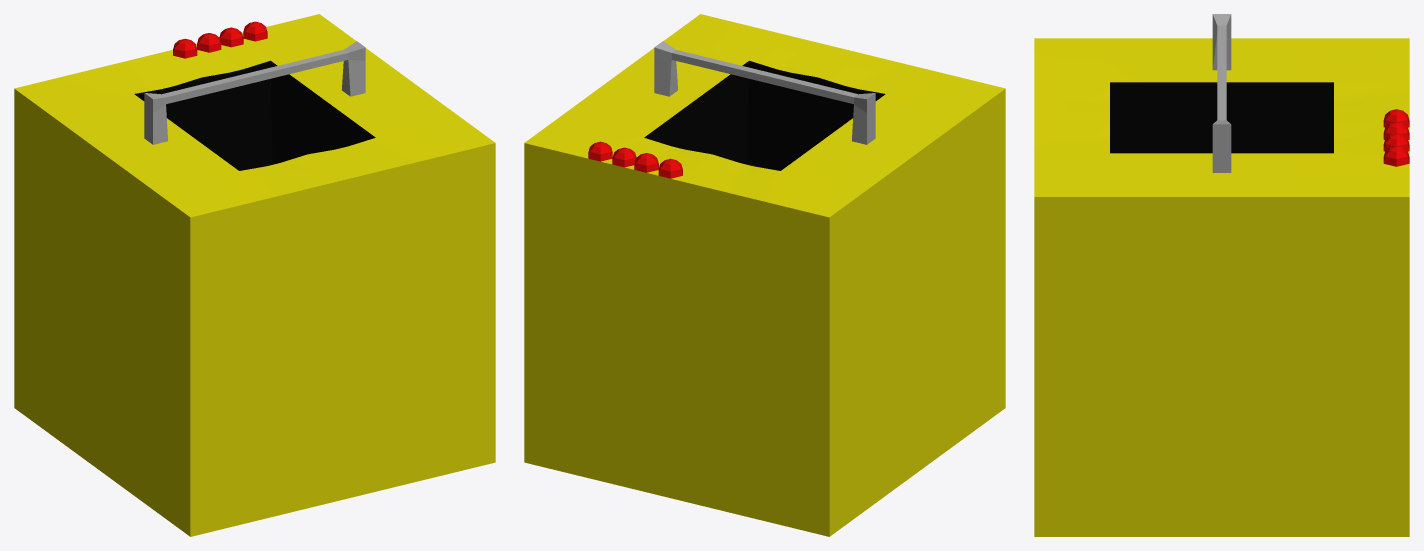
Rendered from Grill 1.fbx.
The picture shows the model from 3 angles, left to right: view 1: azimuth 30°, elevation 25°; view 2: azimuth 150°, elevation 25°; view 3: azimuth 270°, elevation 25°; orthographic projection. The views are drawn at different scales.
Visible parts, largest first — view 1: pSphere7; view 2: pSphere7; view 3: pSphere7.
Boxes of the visible parts, bbox=[...] form: pSphere7: bbox=[14, 14, 495, 536]; pSphere7: bbox=[524, 14, 1005, 536]; pSphere7: bbox=[1034, 14, 1409, 536].
Bounding box in the file's own units: 2 × 2.29 × 2.
